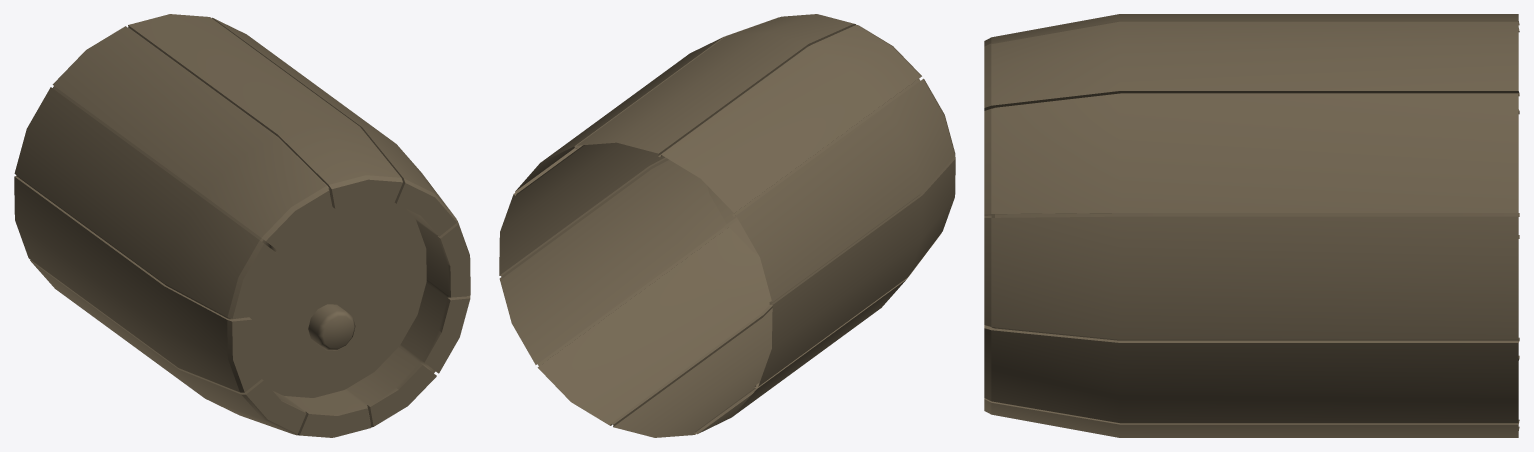
The model's file is SM_Barrel02.fbx.
The picture shows the model from 3 angles, left to right: view 1: azimuth 30°, elevation 25°; view 2: azimuth 150°, elevation 25°; view 3: azimuth 270°, elevation 25°; orthographic projection. The views are drawn at different scales.
Visible parts, largest first — view 1: pCylinder10; view 2: pCylinder10; view 3: pCylinder10.
Boxes of the visible parts, bbox=[...] form: pCylinder10: bbox=[14, 14, 470, 437]; pCylinder10: bbox=[499, 14, 955, 437]; pCylinder10: bbox=[984, 14, 1519, 437].
Size of the model in its own units: 72.92 by 72.87 by 92.8.
